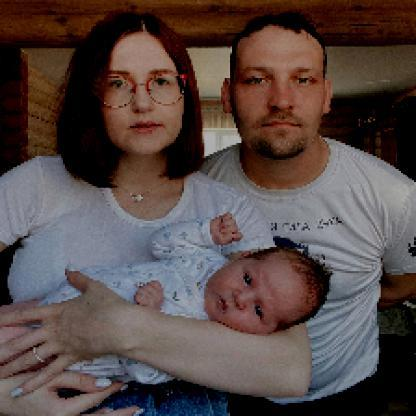child: (1, 213, 332, 395)
